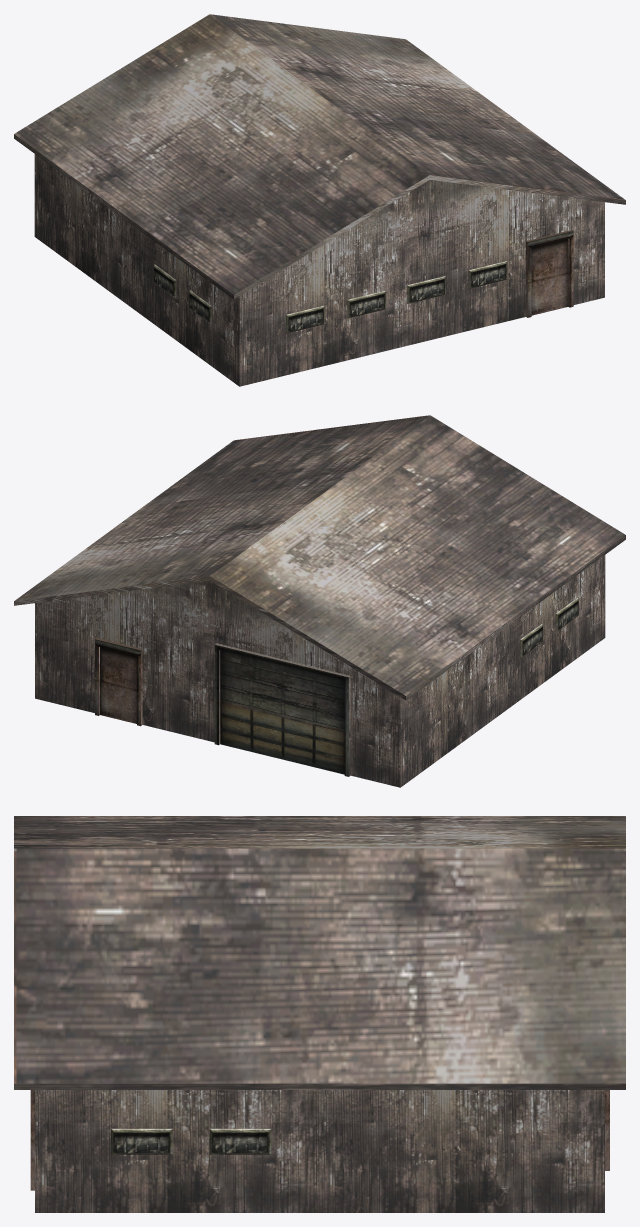
Rendered from warehs04.glb.
3 renders of one model, top to bottom at view 1: azimuth 30°, elevation 25°; view 2: azimuth 150°, elevation 25°; view 3: azimuth 270°, elevation 25°, orthographic. The views are drawn at different scales.
Parts seen in each view (by area): view 1: _warehs04; view 2: _warehs04; view 3: _warehs04.
Boxes of the visible parts, x1=… form: _warehs04: x1=14, y1=14, x2=625, y2=386; _warehs04: x1=14, y1=415, x2=625, y2=787; _warehs04: x1=14, y1=816, x2=625, y2=1212.
Bounding box in the file's own units: 15.75 × 6.62 × 15.3.
Materials: 1 (1 with a texture image).
